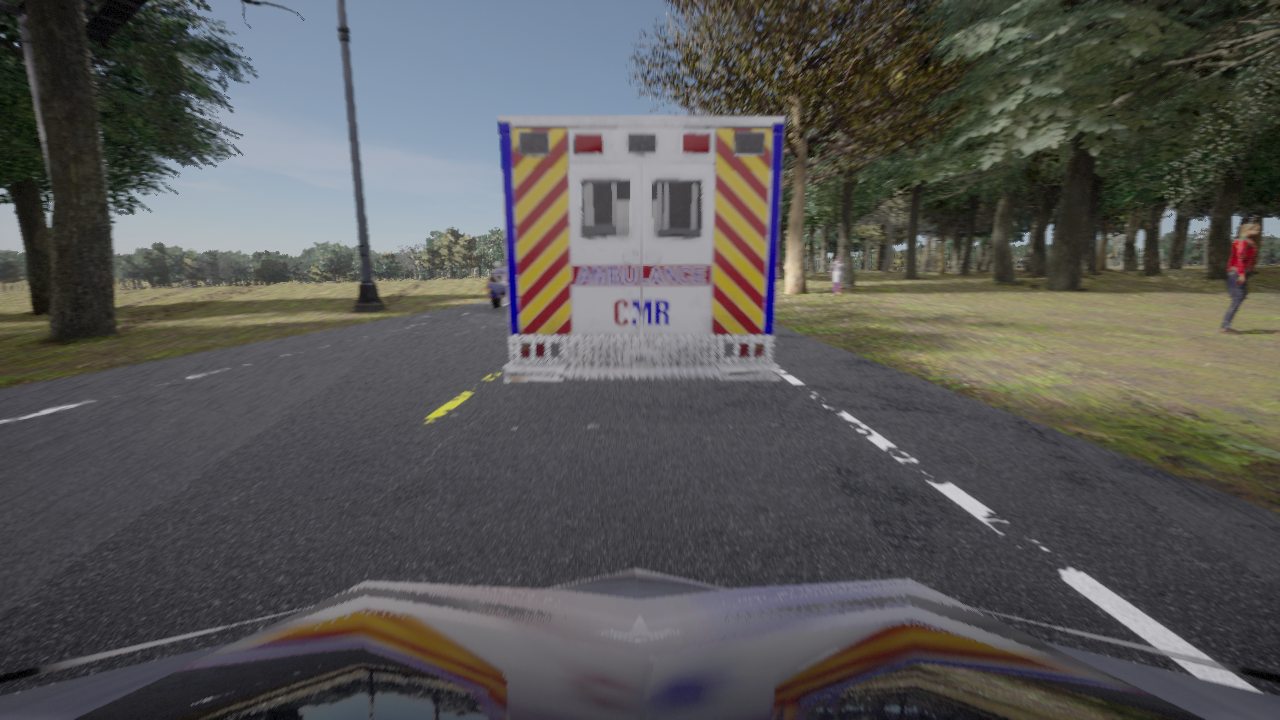cyclist: (0, 569, 1279, 719), (498, 116, 784, 381), (486, 259, 507, 308)
pedestrian: (1219, 222, 1260, 335), (830, 256, 844, 295)
